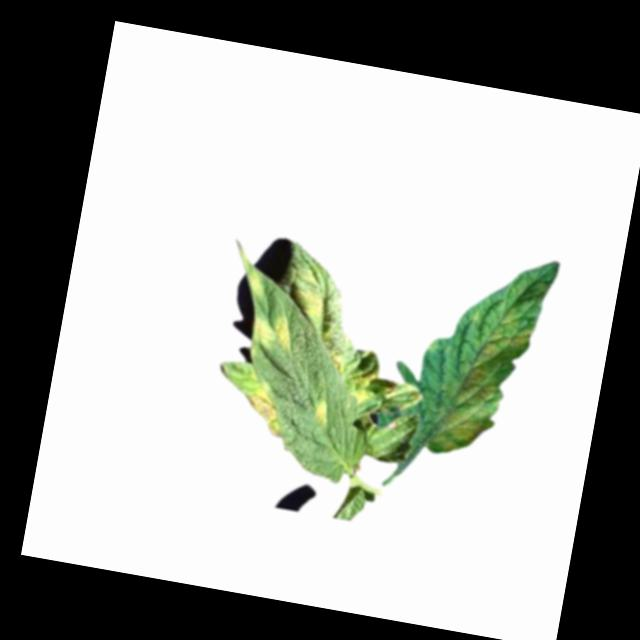Leaf_Mold: (429, 291, 540, 467), (320, 347, 381, 404), (236, 376, 290, 438), (291, 260, 335, 317), (248, 304, 298, 353), (311, 396, 331, 426)
